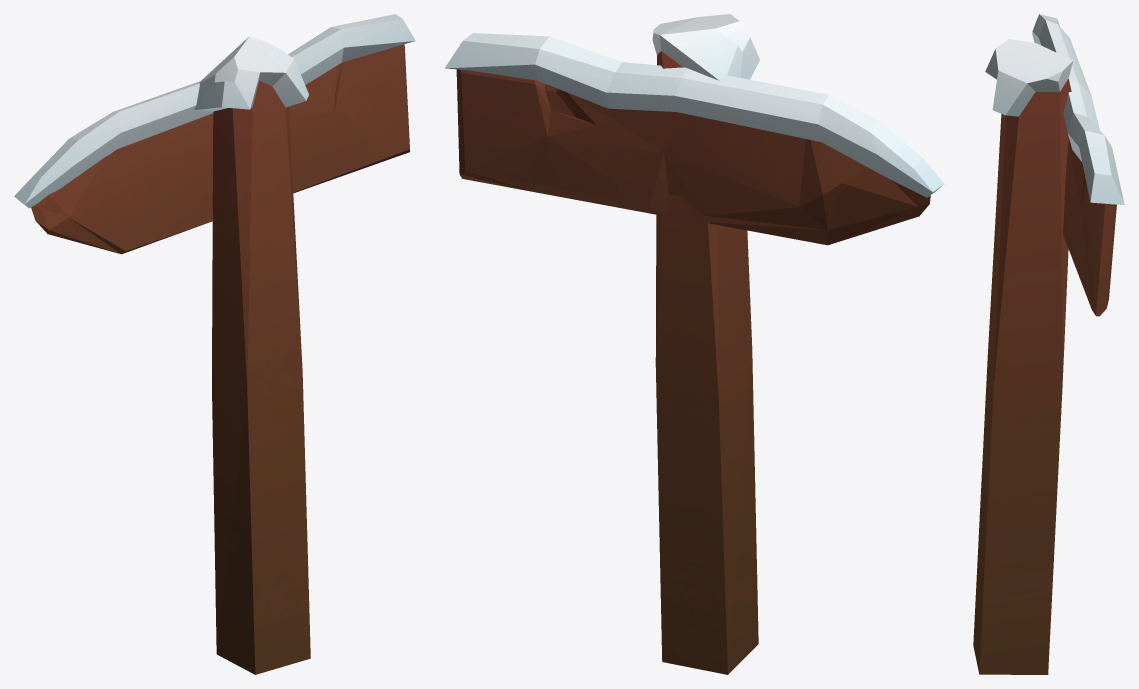
3 renders of one model, left to right at view 1: azimuth 30°, elevation 25°; view 2: azimuth 150°, elevation 25°; view 3: azimuth 270°, elevation 25°, orthographic. The views are drawn at different scales.
Visible parts, largest first — view 1: SnowySignpost; view 2: SnowySignpost; view 3: SnowySignpost.
Boxes of the visible parts, x1,y1,x2,y2 form: SnowySignpost: (14, 14, 415, 674); SnowySignpost: (445, 14, 944, 674); SnowySignpost: (973, 14, 1124, 674).
Bounding box in the file's own units: 1.3 × 1.76 × 0.3959.
Materials: 1 (1 with a texture image).
